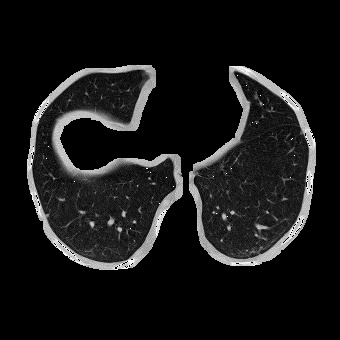PN: (45, 213, 49, 217)
